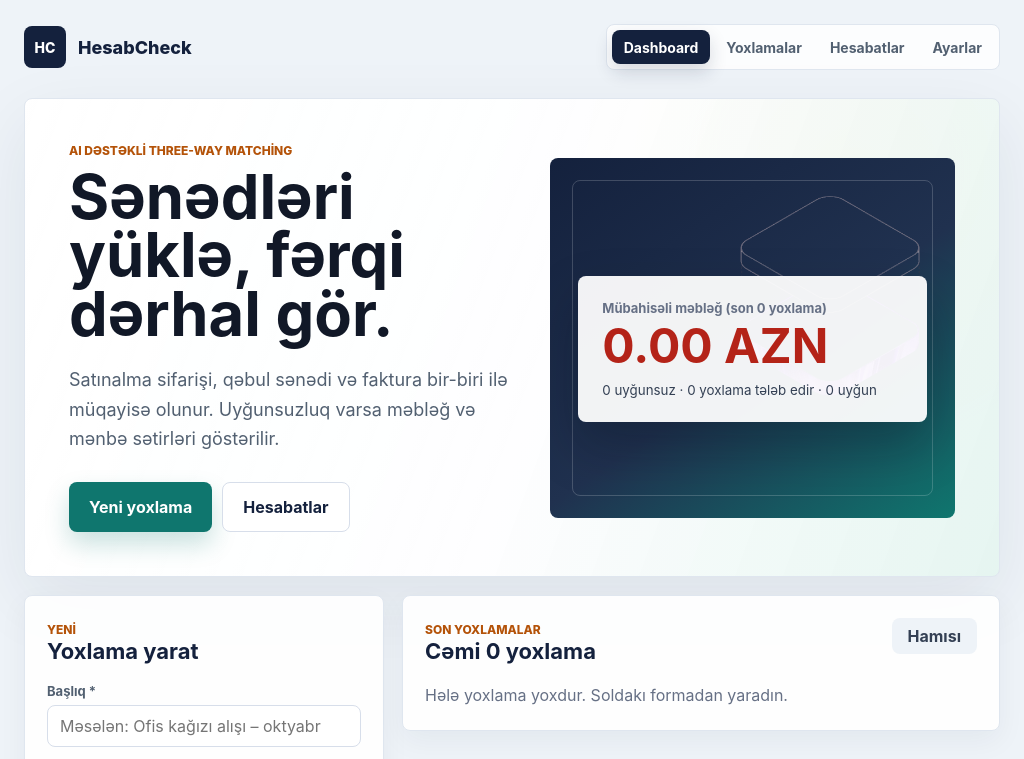
Test: Yoxlamalar › yaratma xətasını formada göstərir
Click the button "Yoxlamalar" at (764,47), box [714, 30, 814, 64]
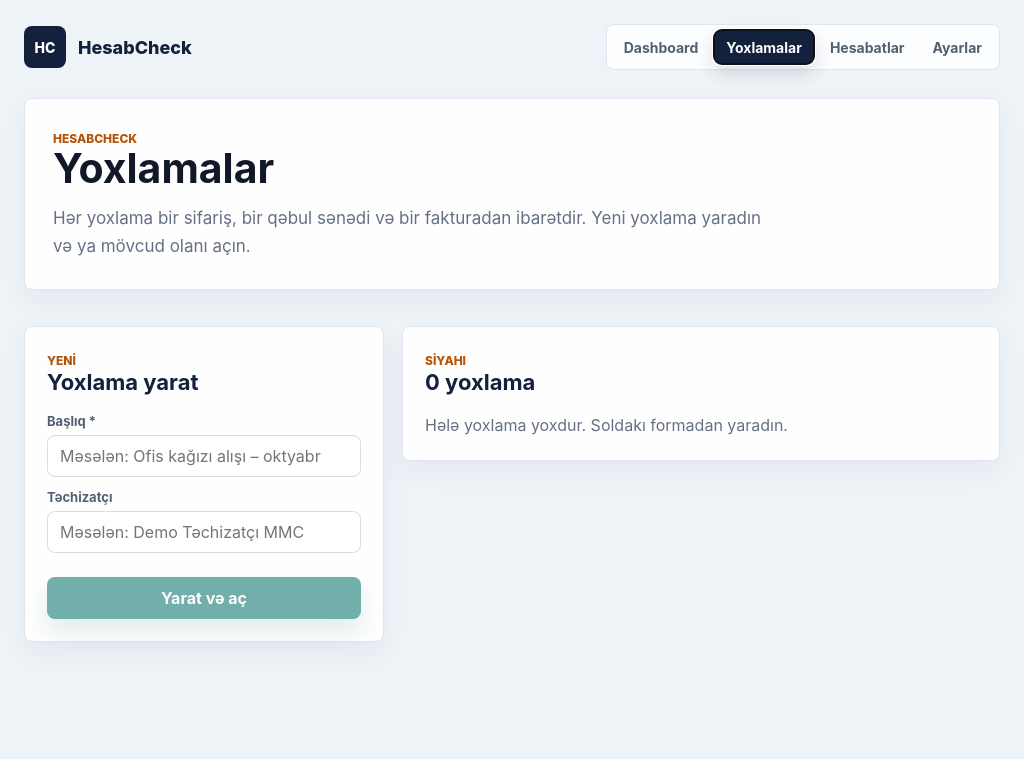
Type "X" into the field labelled "Başlıq *" at (204,456), box [47, 435, 361, 477]
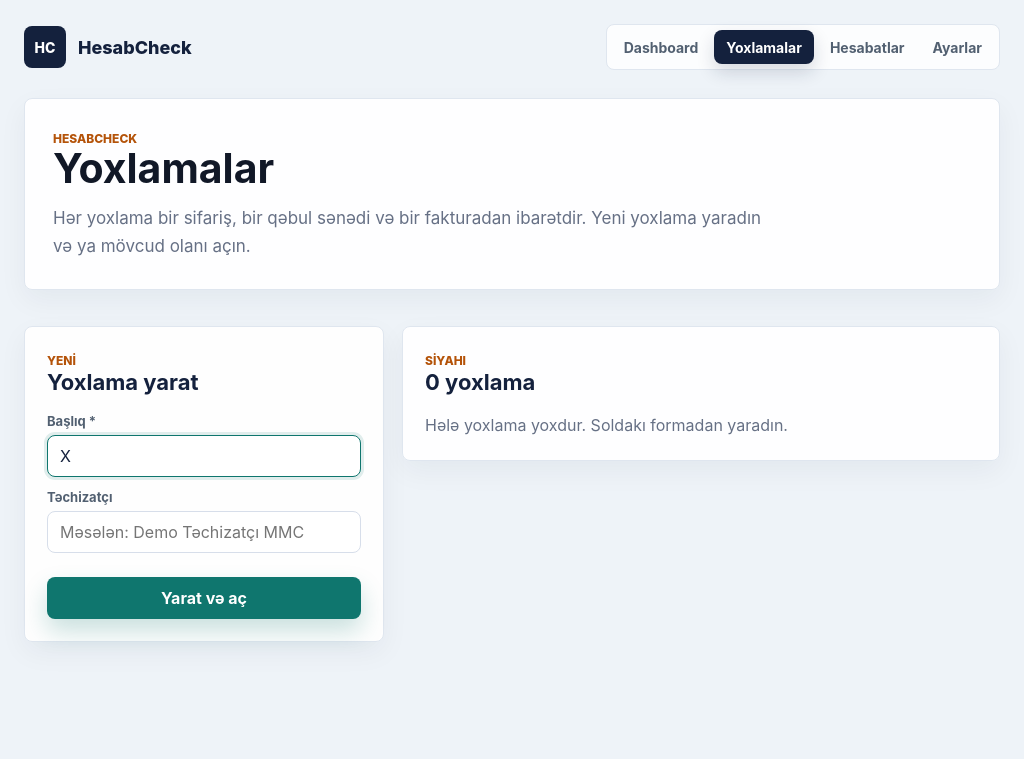
Click the button "Yarat və aç" at (204,598), box [47, 577, 361, 619]
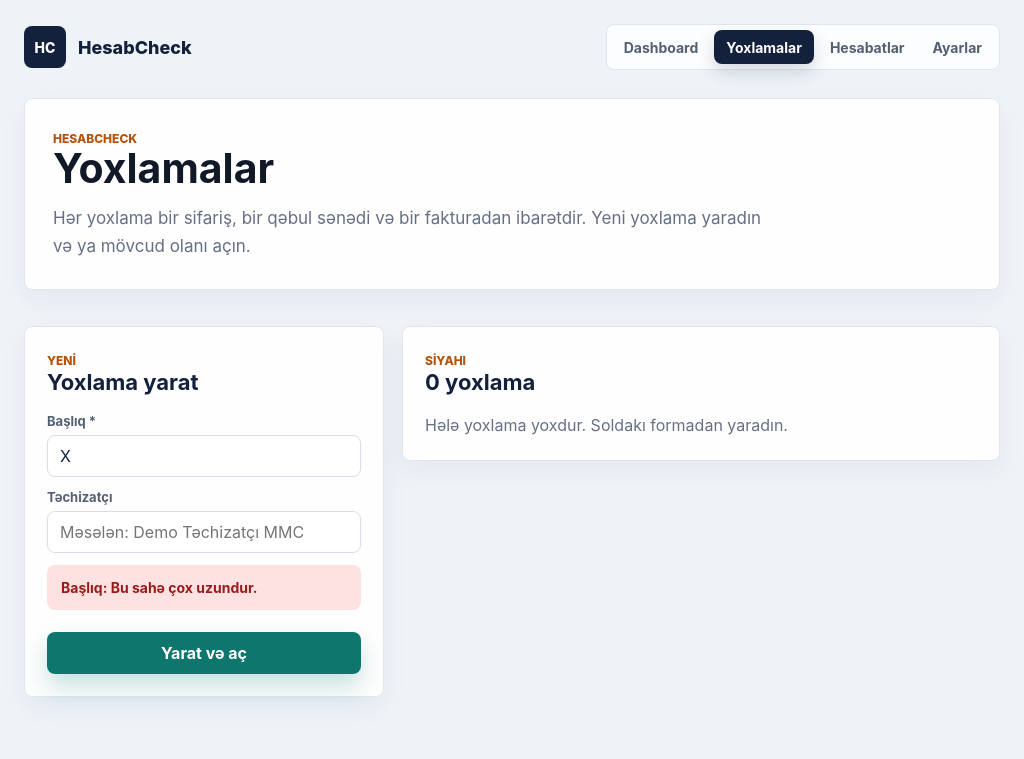
Expected: the message reads "Başlıq: Bu sahə çox uzundur.", [61, 579, 258, 596]
